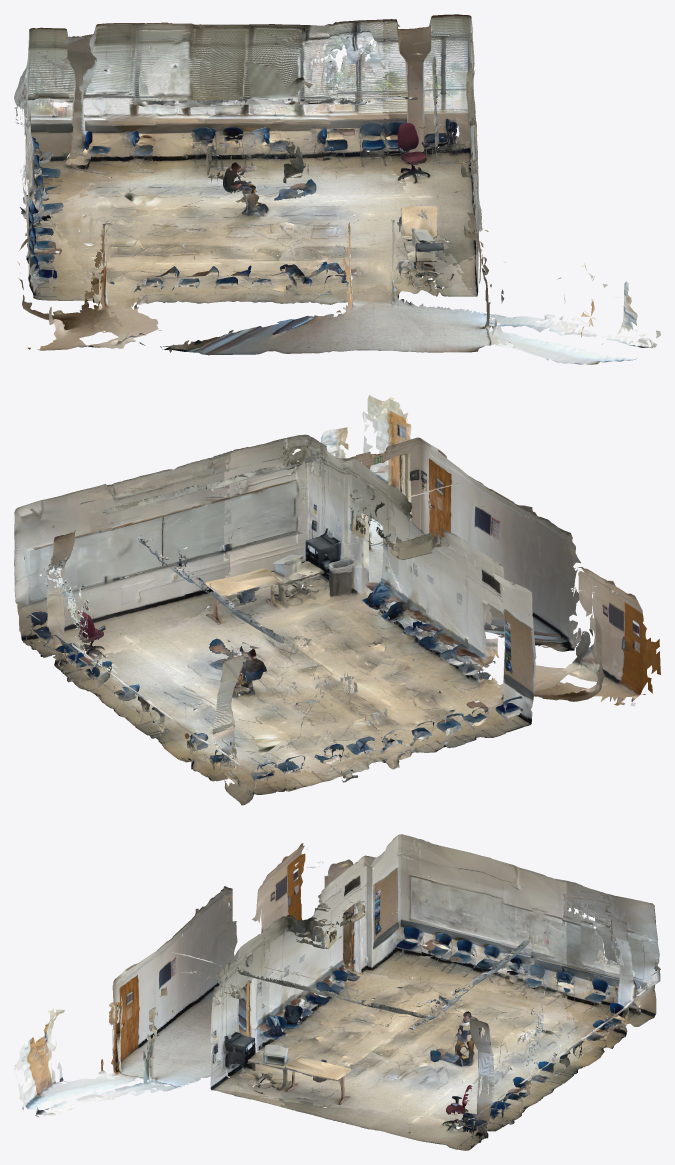
The model's file is hss349-v3.glb.
3 views of the same model, one above another, from view 1: azimuth 30°, elevation 25°; view 2: azimuth 150°, elevation 25°; view 3: azimuth 270°, elevation 25° (orthographic). The views are drawn at different scales.
Parts seen in each view (by area): view 1: B9D0AEA6518B4C05848BE109B91A13CA, EF28DC23819A4C38AF6048D026007037, 3C2D9652BF4244C3BC861A93478A31F5, 543DFE81C0B048329B7A5BE880E5EFA6, 3789BD38035C435BA7C795E171D8F0FF, 6844AF932F824FE3B722E373FD2AE07A, 3CF2DE42DFAF41D79398DAD90AEE1D85; view 2: B9D0AEA6518B4C05848BE109B91A13CA, 3C2D9652BF4244C3BC861A93478A31F5, 543DFE81C0B048329B7A5BE880E5EFA6, 3789BD38035C435BA7C795E171D8F0FF, 6844AF932F824FE3B722E373FD2AE07A, EF28DC23819A4C38AF6048D026007037, 3CF2DE42DFAF41D79398DAD90AEE1D85; view 3: B9D0AEA6518B4C05848BE109B91A13CA, 3789BD38035C435BA7C795E171D8F0FF, 543DFE81C0B048329B7A5BE880E5EFA6, EF28DC23819A4C38AF6048D026007037, 3C2D9652BF4244C3BC861A93478A31F5, 6844AF932F824FE3B722E373FD2AE07A, 3CF2DE42DFAF41D79398DAD90AEE1D85.
Boxes of the visible parts, x1,y1,x2,y2 form: B9D0AEA6518B4C05848BE109B91A13CA: (41,19,457,349); EF28DC23819A4C38AF6048D026007037: (22,22,215,204); 3C2D9652BF4244C3BC861A93478A31F5: (381,14,476,265); 543DFE81C0B048329B7A5BE880E5EFA6: (168,132,513,355); 3789BD38035C435BA7C795E171D8F0FF: (17,84,137,350); 6844AF932F824FE3B722E373FD2AE07A: (456,118,660,364); 3CF2DE42DFAF41D79398DAD90AEE1D85: (14,55,42,212); B9D0AEA6518B4C05848BE109B91A13CA: (45,459,592,778); 3C2D9652BF4244C3BC861A93478A31F5: (14,451,239,673); 543DFE81C0B048329B7A5BE880E5EFA6: (254,435,580,650); 3789BD38035C435BA7C795E171D8F0FF: (326,565,660,781); 6844AF932F824FE3B722E373FD2AE07A: (223,394,411,587); EF28DC23819A4C38AF6048D026007037: (144,636,333,805); 3CF2DE42DFAF41D79398DAD90AEE1D85: (267,674,357,789); B9D0AEA6518B4C05848BE109B91A13CA: (252,855,584,1127); 3789BD38035C435BA7C795E171D8F0FF: (261,834,567,1002); 543DFE81C0B048329B7A5BE880E5EFA6: (101,886,284,1100); EF28DC23819A4C38AF6048D026007037: (562,889,660,1068); 3C2D9652BF4244C3BC861A93478A31F5: (278,989,504,1150); 6844AF932F824FE3B722E373FD2AE07A: (14,974,286,1117); 3CF2DE42DFAF41D79398DAD90AEE1D85: (560,881,631,1006).
Bounding box in the file's own units: 13.73 × 3.56 × 16.21.
7 materials, 7 textured.
